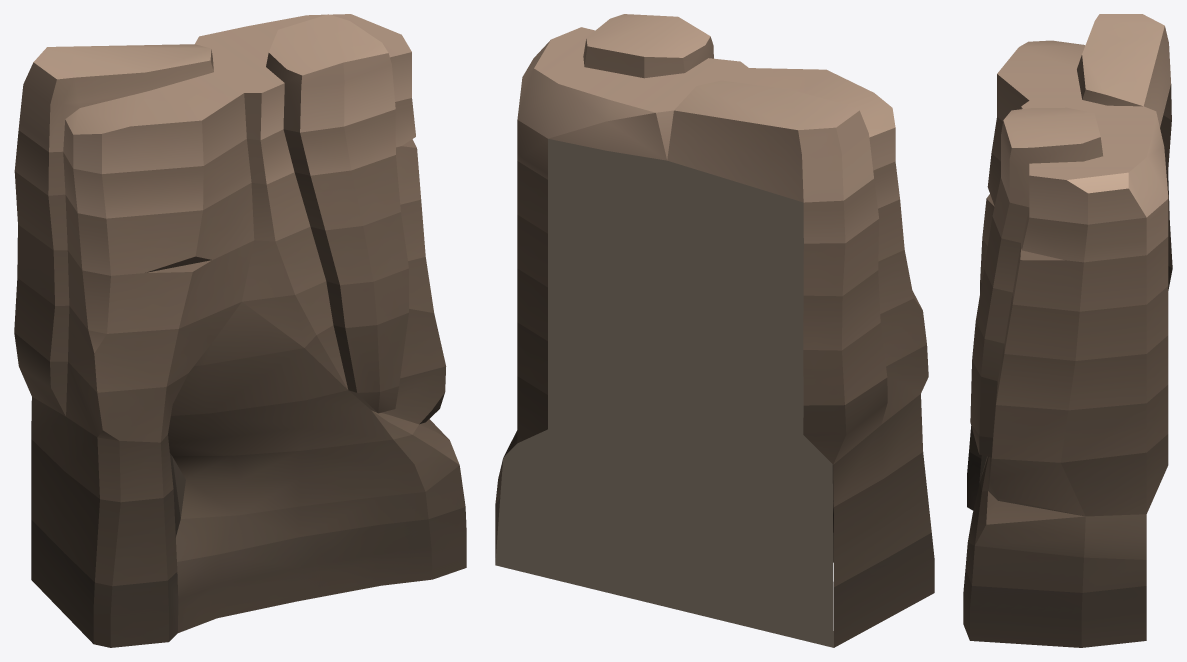
Rendered from Canyon_Wall_2C.fbx.
3 renders of one model, left to right at view 1: azimuth 30°, elevation 25°; view 2: azimuth 150°, elevation 25°; view 3: azimuth 270°, elevation 25°, orthographic. The views are drawn at different scales.
Visible parts, largest first — view 1: Canyon_Wall_2C; view 2: Canyon_Wall_2C; view 3: Canyon_Wall_2C.
Boxes of the visible parts, x1,y1,x2,y2 form: Canyon_Wall_2C: (14, 14, 466, 647); Canyon_Wall_2C: (495, 14, 934, 647); Canyon_Wall_2C: (963, 14, 1172, 647).
Bounding box in the file's own units: 2362 × 3132 × 1250.
